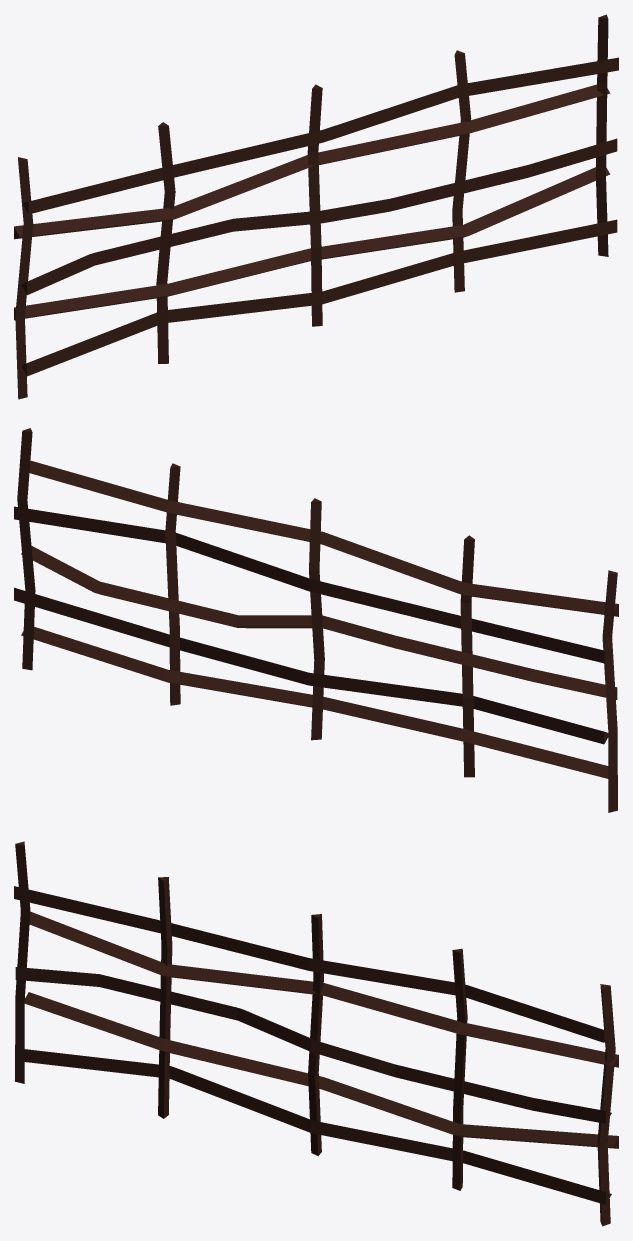
The model's file is 2m_WattleFence.fbx.
3 renders of one model, top to bottom at view 1: azimuth 30°, elevation 25°; view 2: azimuth 150°, elevation 25°; view 3: azimuth 330°, elevation 25°, orthographic.
Parts seen in each view (by area): view 1: 2m_WattleFence; view 2: 2m_WattleFence; view 3: 2m_WattleFence.
Boxes of the visible parts, x1,y1,x2,y2 form: 2m_WattleFence: (14,14,618,399); 2m_WattleFence: (14,428,618,812); 2m_WattleFence: (14,841,618,1226).
Size of the model in its own units: 202 by 77.11 by 10.61.
